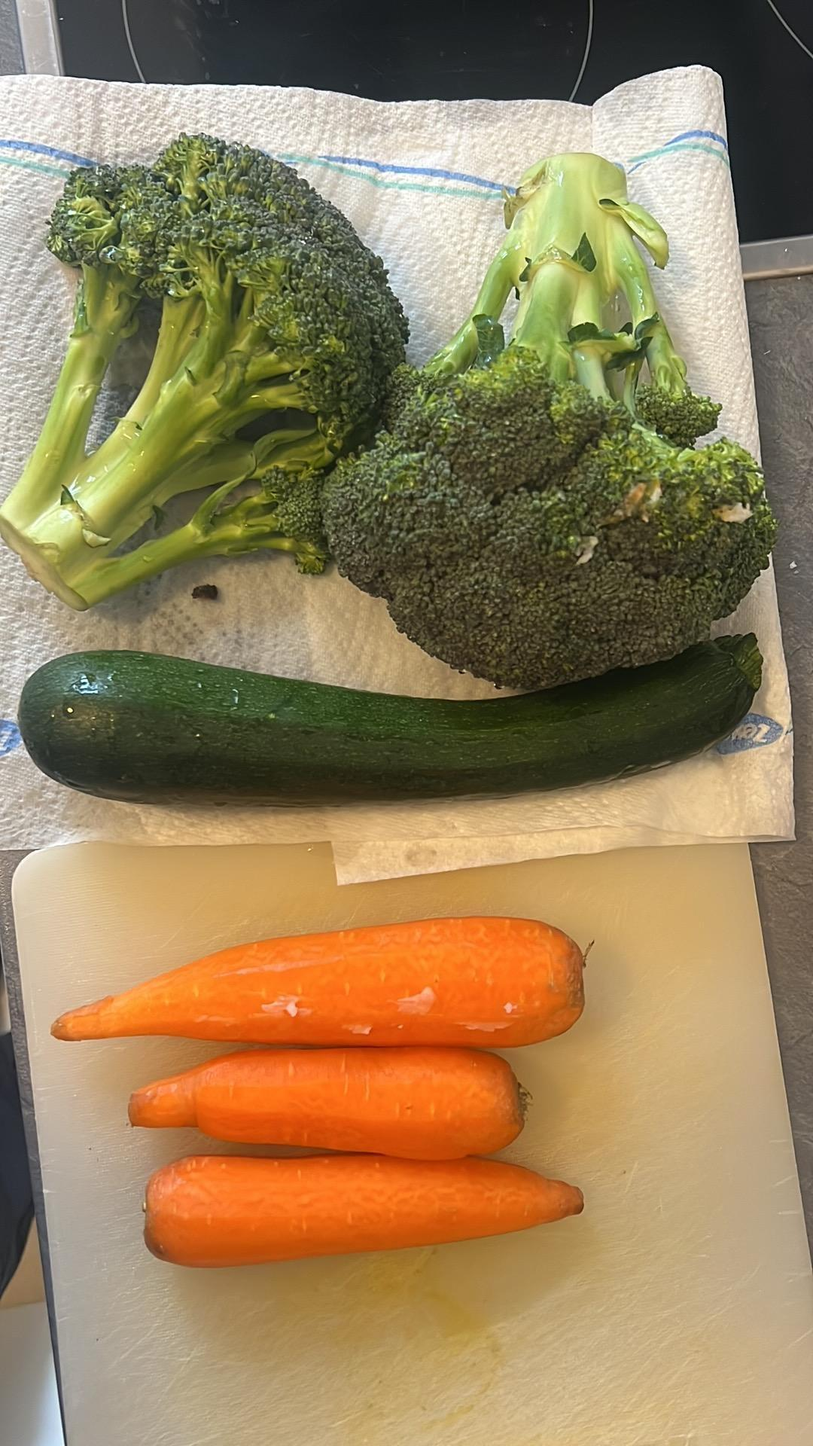broccoli: (348, 156, 768, 678), (42, 151, 405, 605)
carrot: (56, 911, 589, 1047), (141, 1149, 593, 1275), (132, 1041, 527, 1158)
vegetable marrow: (23, 646, 779, 815)
